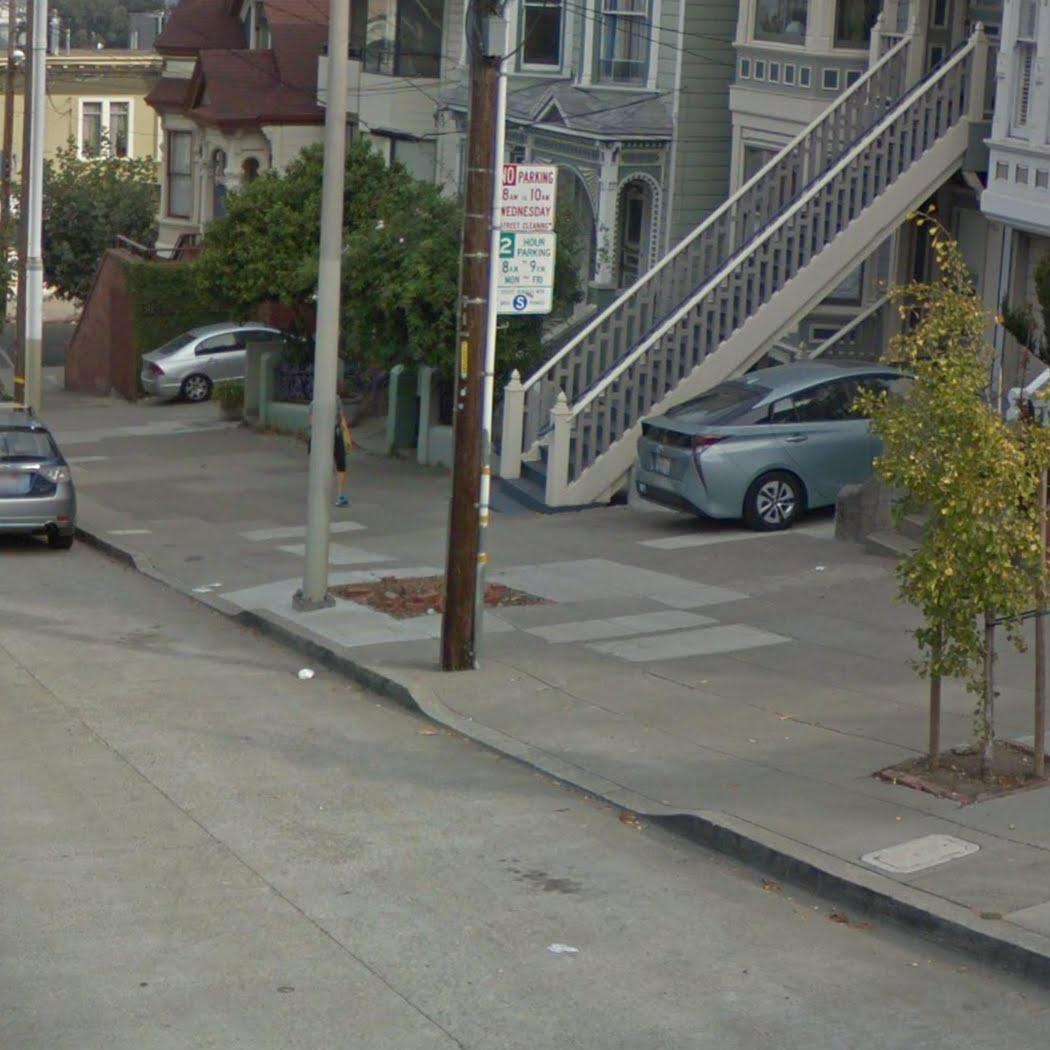2 Hour Parking: (486, 230, 559, 318)
No Parking: (491, 163, 555, 233)
